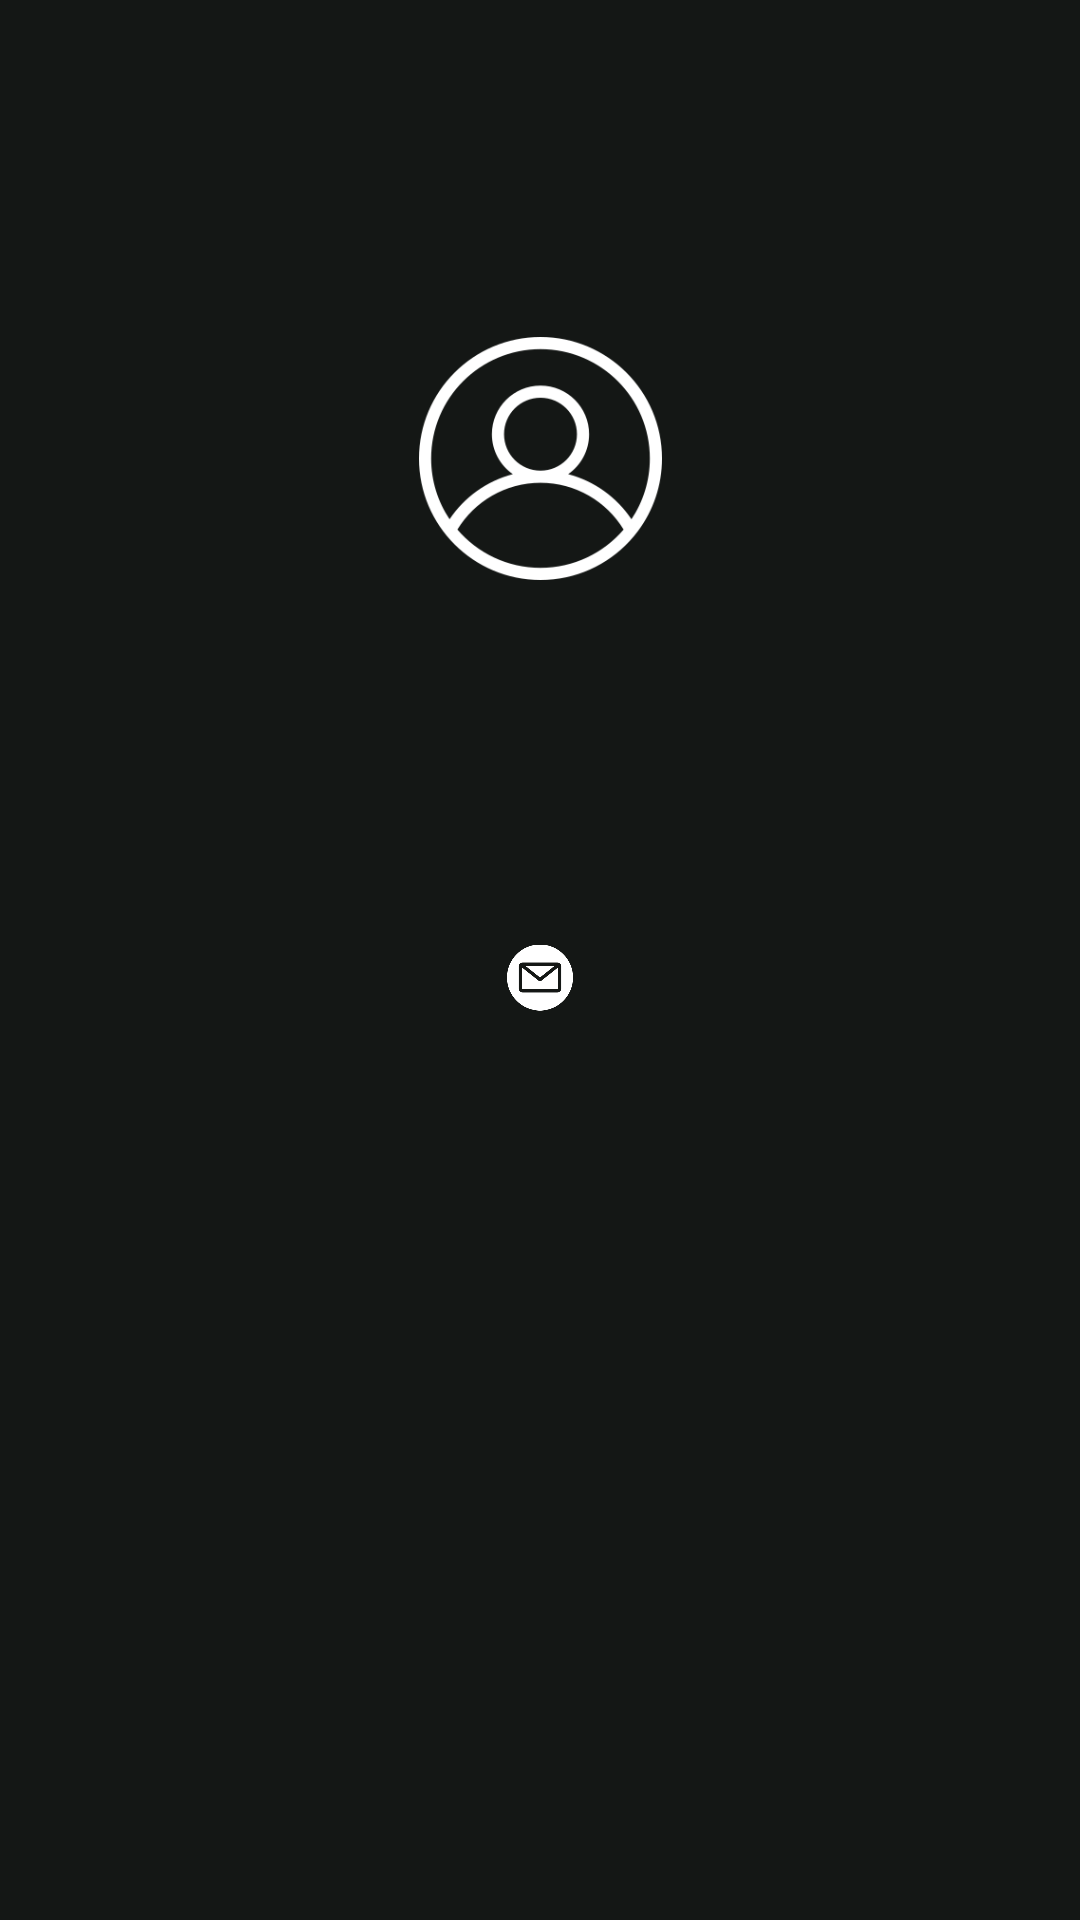

Screen size 1080w x 1920h. Icon name, then its center in pixels as point (x, y):
email: point (540, 978)
user: point (540, 458)
